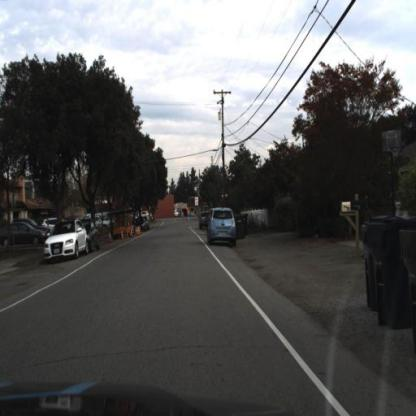car: (42, 217, 90, 263), (43, 219, 86, 256), (0, 221, 48, 245), (208, 205, 236, 245), (79, 217, 100, 251), (86, 223, 98, 250), (198, 208, 209, 227), (132, 215, 146, 229)
truck: (112, 219, 133, 239)
